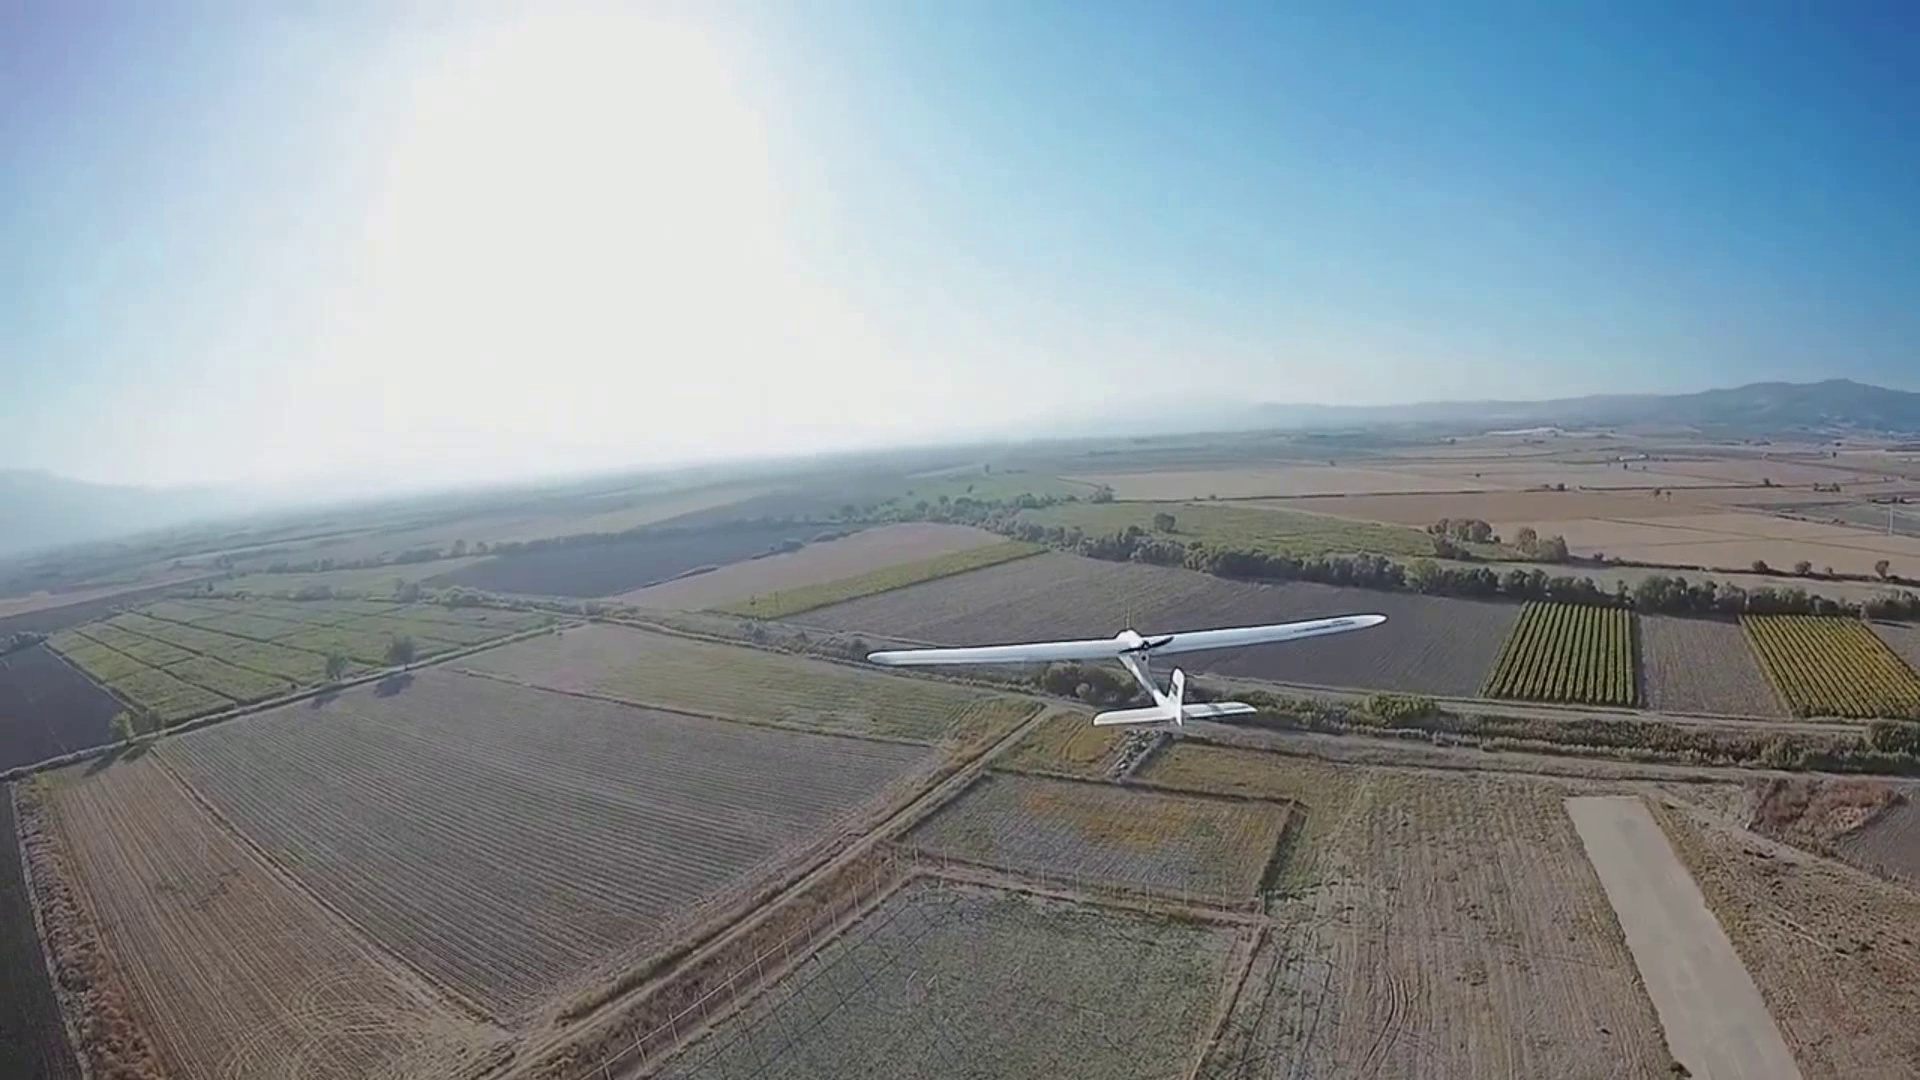airplane: (858, 605, 1389, 725)
